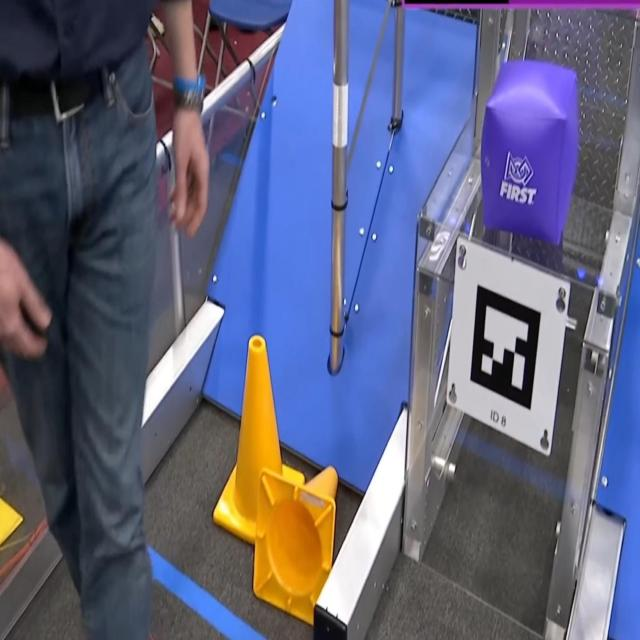frc_cone: (214, 332, 303, 554), (253, 460, 337, 619)
frc_cube: (483, 59, 577, 247)
